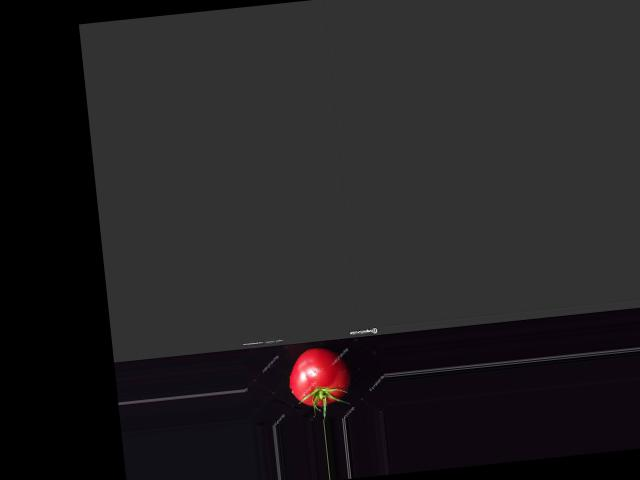tomato: (285, 344, 352, 408)
